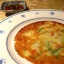pepper: (51, 43, 64, 55), (32, 49, 44, 60), (37, 28, 47, 34)
pizza: (17, 24, 64, 64)
